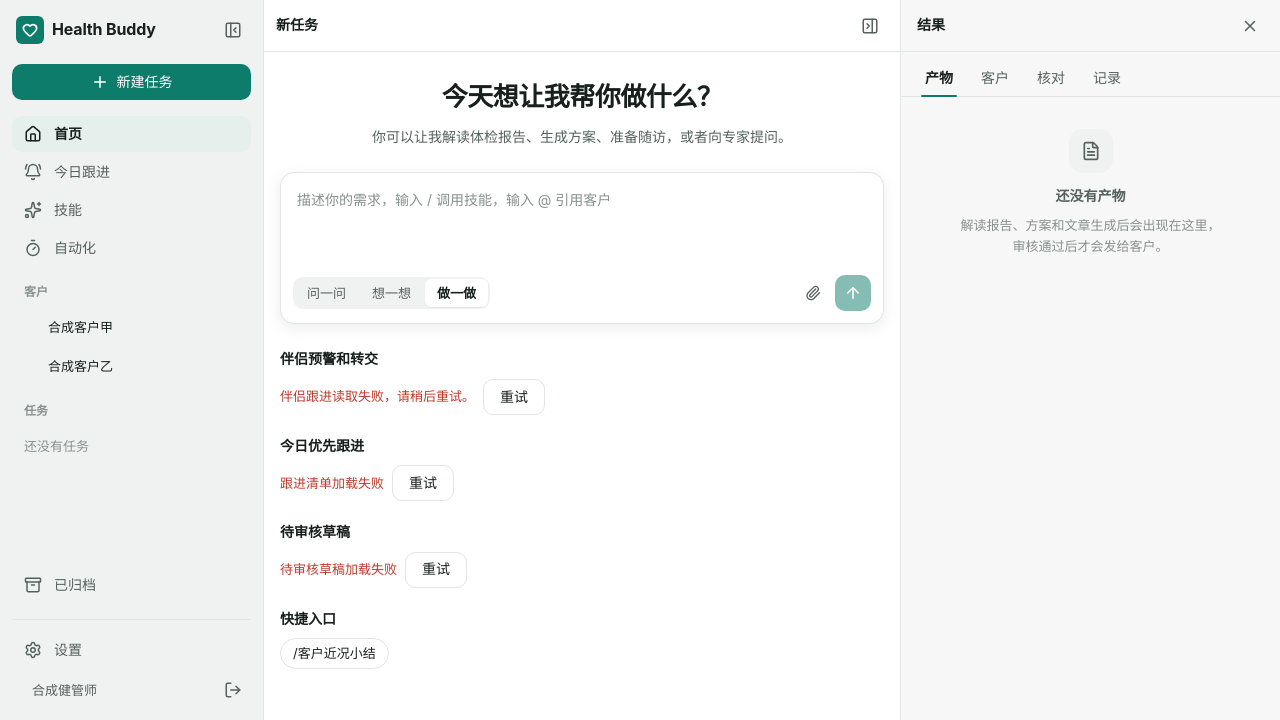
Test: 我的账号和按套餐隐藏入口（M7 规格 2.5） › “我的账号”显示套餐、到期日和本月用量，不另设上限的照实说明
The image size is (1280, 720).
Click the button with aria-label "我的账号".
click(116, 690)  # box x1=24 y1=676 x2=207 y2=704
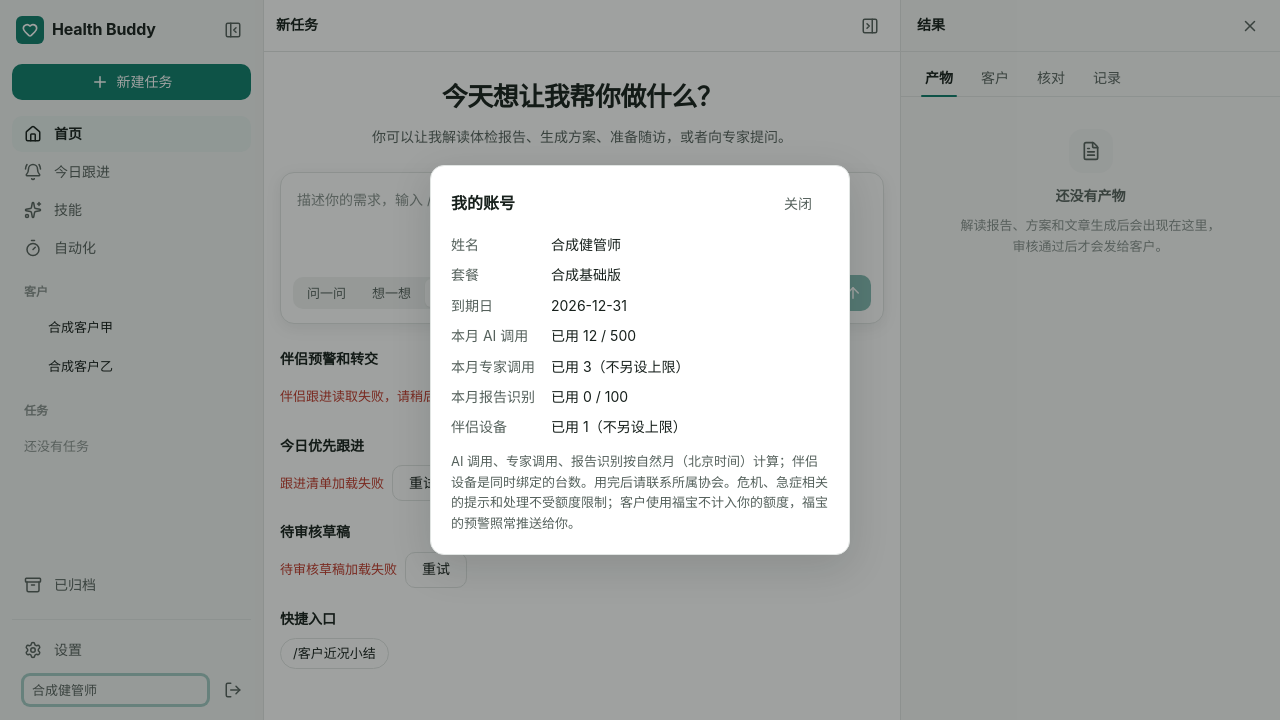
Now the text "合成基础版" is shown, box x1=551 y1=266 x2=621 y2=283
Now the dialog "我的账号" shows "2026-12-31", box x1=551 y1=297 x2=627 y2=314
Now the dialog "我的账号" shows "危机、急症相关的提示和处理不受额度限制", box x1=451 y1=453 x2=828 y2=531
